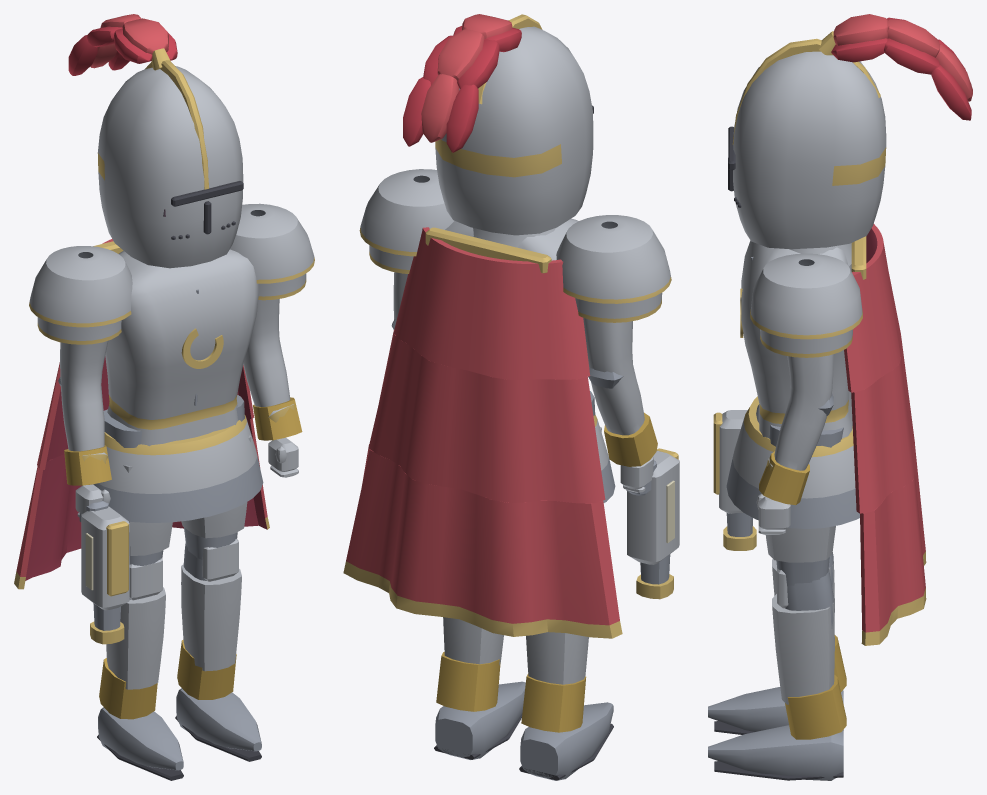
Rendered from jo_chevalier.glb.
3 renders of one model, left to right at view 1: azimuth 30°, elevation 25°; view 2: azimuth 150°, elevation 25°; view 3: azimuth 270°, elevation 25°, orthographic. The views are drawn at different scales.
Parts seen in each view (by area): view 1: torso, coiffe, epaule_r, arm_r, shin_l, dos_f3, arm_l, jambe_r, jambe_l, epaule_l, gun, shin_r (+6 smaller); view 2: dos_f3, dos_f2, coiffe, dos_f1, epaule_r, arm_r, jambe_r, jambe_l, epaule_l, gun, coiffe_f3, coiffe_f2 (+6 smaller); view 3: coiffe, torso, epaule_l, dos_f3, jambe_l, arm_l, dos_f2, shin_l, dos_f1, leg_l, gun, jambe_r (+4 smaller).
Part boxes in pixels (x1=…): torso: x1=93, y1=249, x2=263, y2=522; coiffe: x1=97, y1=48, x2=243, y2=268; epaule_r: x1=29, y1=246, x2=132, y2=344; arm_r: x1=58, y1=340, x2=111, y2=517; shin_l: x1=181, y1=538, x2=241, y2=671; dos_f3: x1=14, y1=418, x2=269, y2=589; arm_l: x1=243, y1=299, x2=302, y2=477; jambe_r: x1=97, y1=658, x2=183, y2=780; jambe_l: x1=175, y1=640, x2=261, y2=761; epaule_l: x1=230, y1=203, x2=314, y2=300; gun: x1=79, y1=501, x2=129, y2=644; shin_r: x1=106, y1=558, x2=165, y2=689; dos_f3: x1=343, y1=444, x2=622, y2=638; dos_f2: x1=368, y1=330, x2=605, y2=503; coiffe: x1=435, y1=14, x2=593, y2=235; dos_f1: x1=394, y1=227, x2=590, y2=379; epaule_r: x1=556, y1=215, x2=671, y2=322; arm_r: x1=583, y1=318, x2=657, y2=492; jambe_r: x1=519, y1=673, x2=613, y2=780; jambe_l: x1=434, y1=652, x2=525, y2=759; epaule_l: x1=359, y1=169, x2=454, y2=273; gun: x1=626, y1=448, x2=679, y2=599; coiffe_f3: x1=403, y1=74, x2=478, y2=152; coiffe_f2: x1=423, y1=29, x2=499, y2=88; coiffe: x1=728, y1=31, x2=886, y2=249; torso: x1=726, y1=240, x2=859, y2=528; epaule_l: x1=750, y1=253, x2=862, y2=357; dos_f3: x1=860, y1=443, x2=926, y2=645; jambe_l: x1=708, y1=675, x2=846, y2=780; arm_l: x1=756, y1=354, x2=833, y2=534; dos_f2: x1=851, y1=335, x2=914, y2=513; shin_l: x1=772, y1=568, x2=834, y2=704; dos_f1: x1=844, y1=224, x2=900, y2=392; leg_l: x1=765, y1=424, x2=843, y2=585; gun: x1=713, y1=410, x2=756, y2=550; jambe_r: x1=708, y1=635, x2=846, y2=734.
Bounding box in the file's own units: 0.536 × 1.32 × 0.43.
